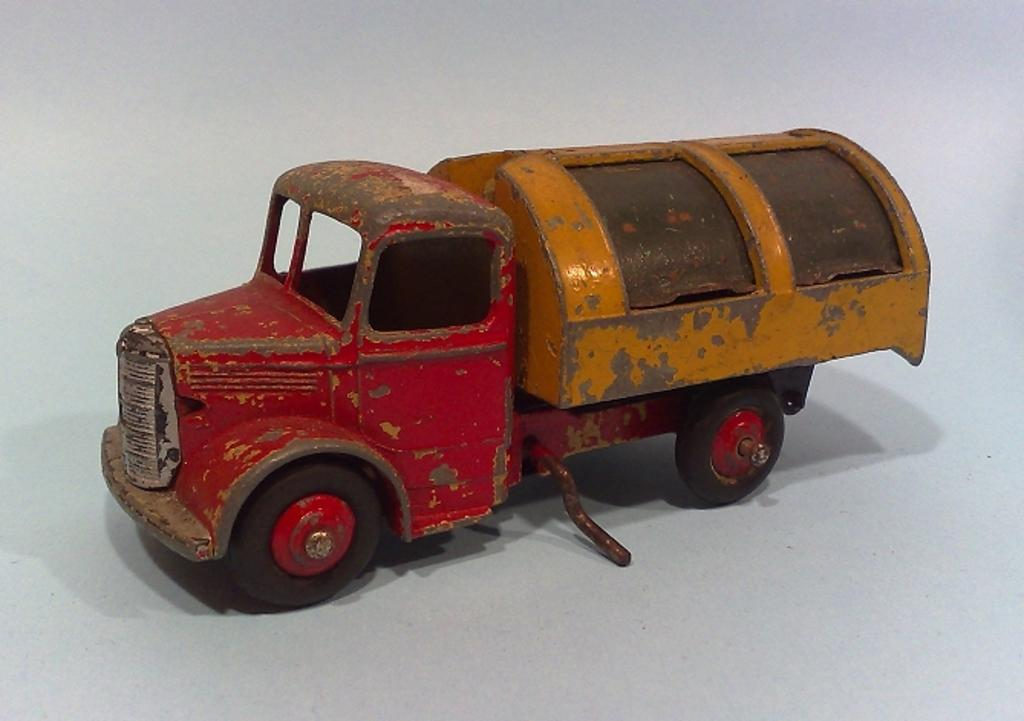Truck: (73, 142, 917, 621)
